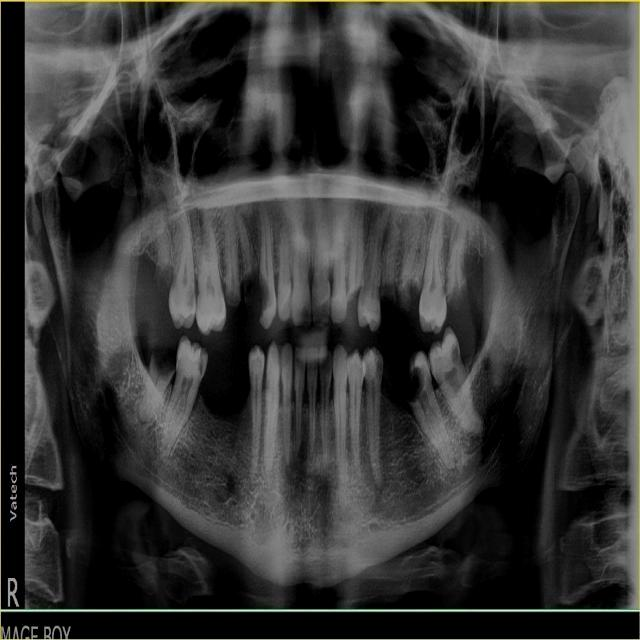Caries: (407, 362, 425, 404), (258, 271, 270, 319), (451, 338, 464, 366), (187, 284, 197, 309), (375, 355, 383, 383), (198, 351, 206, 378)
Missing teeth: (198, 354, 251, 419), (379, 355, 411, 411)
Root Piece: (400, 211, 428, 301), (141, 357, 173, 424), (445, 219, 468, 295), (346, 209, 365, 298), (225, 210, 242, 308), (382, 223, 403, 302), (238, 216, 257, 299), (153, 218, 172, 283), (400, 242, 418, 291), (412, 239, 428, 290)
